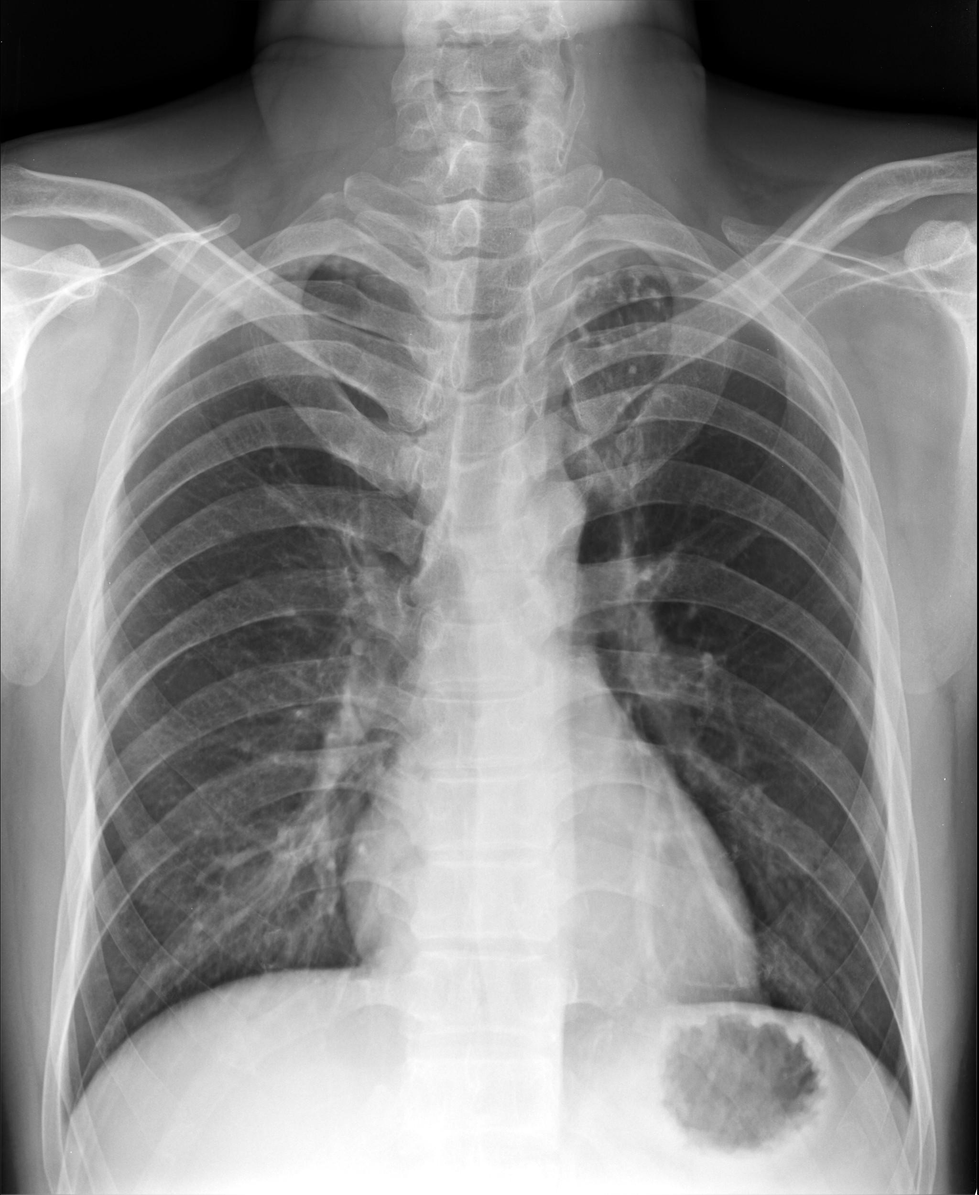Pleural thickening: (230, 248, 394, 290), (692, 260, 772, 320)
Pulmonary fibrosis: (573, 258, 662, 434)
